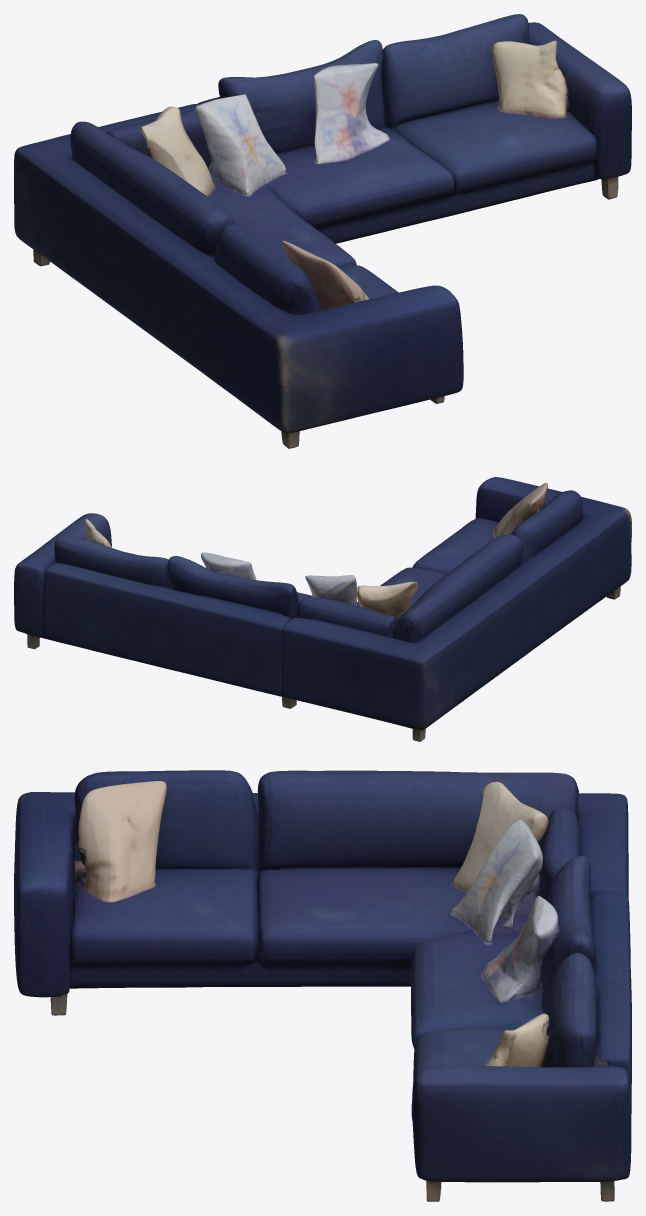
The model's file is sam3d.glb.
3 views of the same model, one above another, from view 1: azimuth 30°, elevation 25°; view 2: azimuth 150°, elevation 25°; view 3: azimuth 270°, elevation 25° (orthographic). The views are drawn at different scales.
Visible parts, largest first — view 1: world; view 2: world; view 3: world.
Boxes of the visible parts, bbox=[...] form: world: bbox=[14, 14, 631, 448]; world: bbox=[14, 477, 631, 741]; world: bbox=[14, 770, 631, 1201].
Size of the model in its own units: 1 by 0.2805 by 0.8919.
